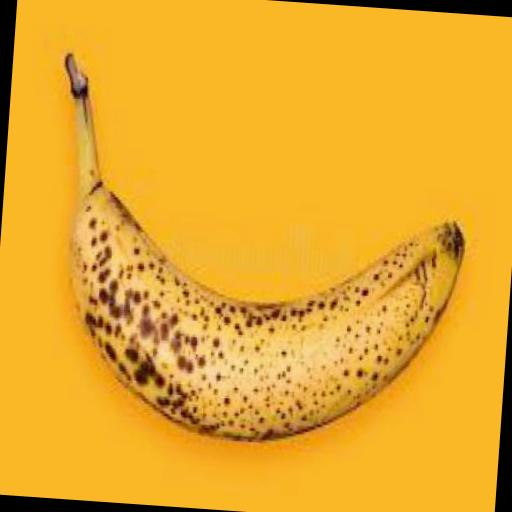biodegradable: (38, 50, 476, 453)
